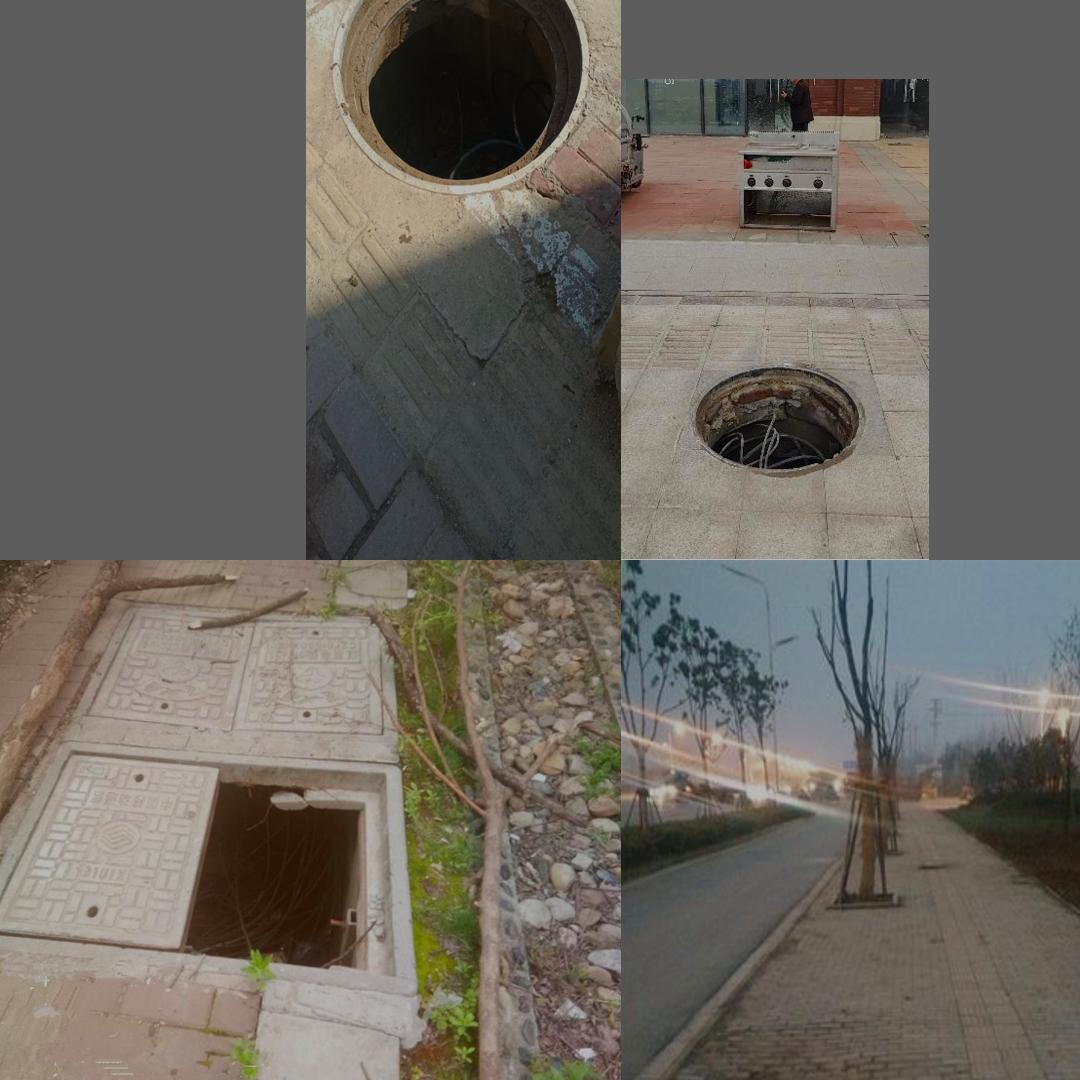good: (77, 601, 401, 762)
lose: (0, 739, 417, 995), (334, 0, 588, 194), (681, 355, 880, 480)
